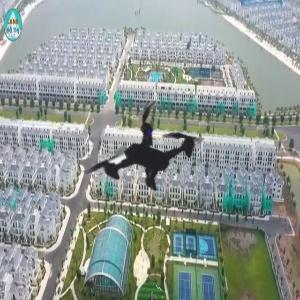drone: (46, 56, 239, 249)
